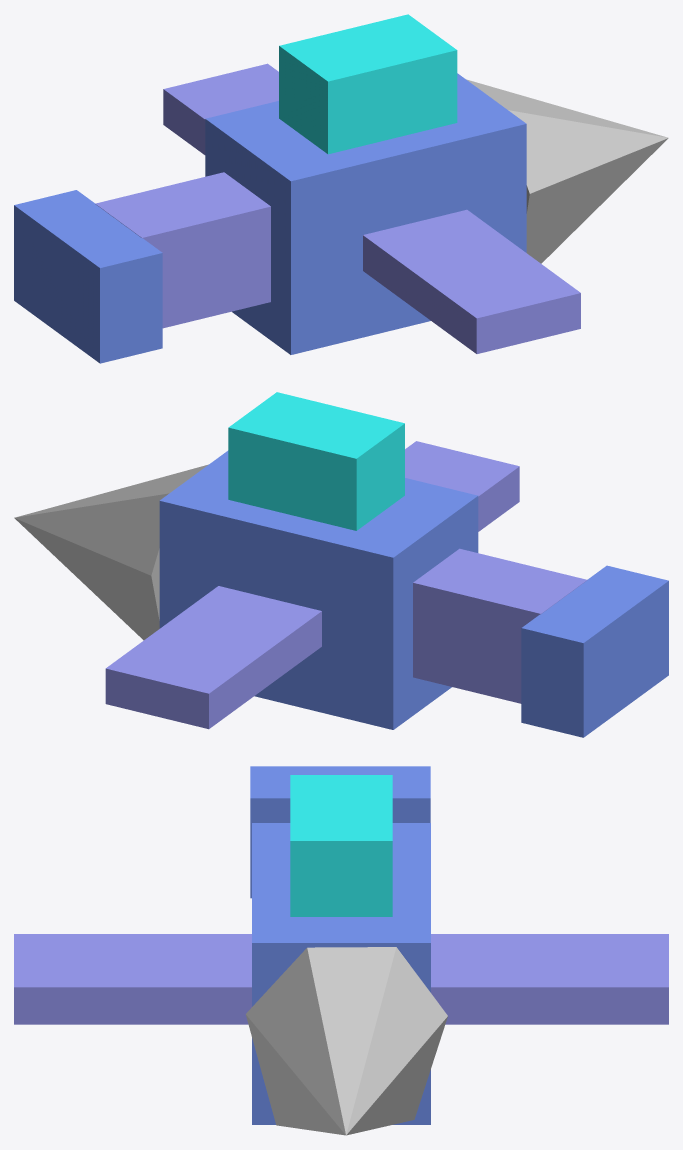
The picture shows the model from 3 angles, top to bottom: view 1: azimuth 30°, elevation 25°; view 2: azimuth 150°, elevation 25°; view 3: azimuth 270°, elevation 25°; orthographic projection. The views are drawn at different scales.
Visible parts, largest first — view 1: Cube_Material, 立方体.003_材质.005, 立方体.001_材质.002, 立方体.004_材质, 立方体.002_材质.004, 锥体_材质.003, 立方体_材质.001; view 2: Cube_Material, 立方体.003_材质.005, 立方体_材质.001, 立方体.004_材质, 立方体.002_材质.004, 锥体_材质.003, 立方体.001_材质.002; view 3: 锥体_材质.003, 立方体.001_材质.002, 立方体_材质.001, Cube_Material, 立方体.004_材质, 立方体.003_材质.005.
Part boxes in pixels (x1,y1,x2,y2): Cube_Material: [205, 73, 526, 354]; 立方体.003_材质.005: [14, 190, 162, 363]; 立方体.001_材质.002: [363, 209, 580, 353]; 立方体.004_材质: [279, 14, 457, 154]; 立方体.002_材质.004: [95, 172, 270, 328]; 锥体_材质.003: [466, 79, 668, 263]; 立方体_材质.001: [163, 63, 278, 154]; Cube_Material: [159, 450, 478, 729]; 立方体.003_材质.005: [521, 565, 668, 737]; 立方体_材质.001: [105, 586, 321, 729]; 立方体.004_材质: [228, 392, 404, 530]; 立方体.002_材质.004: [413, 548, 587, 703]; 锥体_材质.003: [14, 464, 208, 640]; 立方体.001_材质.002: [405, 441, 519, 531]; 锥体_材质.003: [245, 947, 447, 1135]; 立方体.001_材质.002: [14, 934, 251, 1024]; 立方体_材质.001: [431, 934, 668, 1024]; Cube_Material: [252, 823, 430, 1124]; 立方体.004_材质: [290, 775, 392, 916]; 立方体.003_材质.005: [250, 766, 430, 898].
Bounding box in the file's own units: 4.97 × 1.91 × 4.39.
